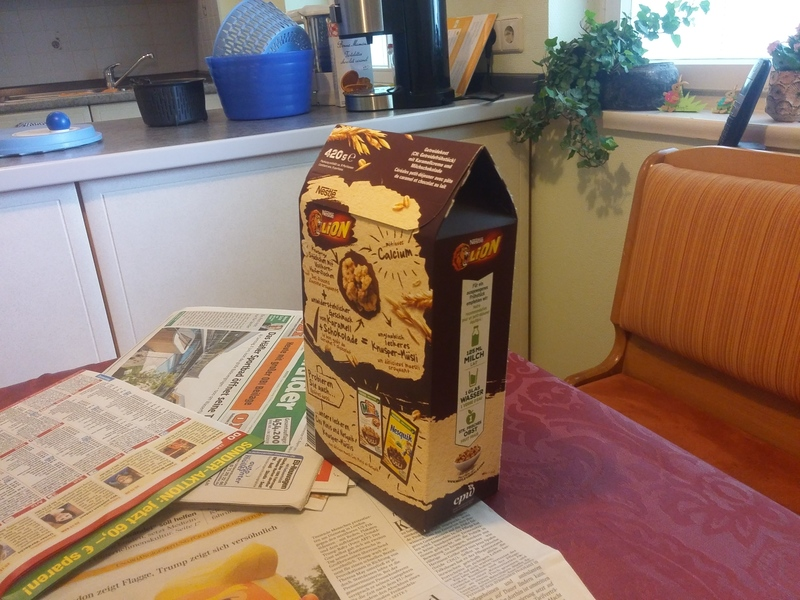cereals: (296, 123, 518, 534)
